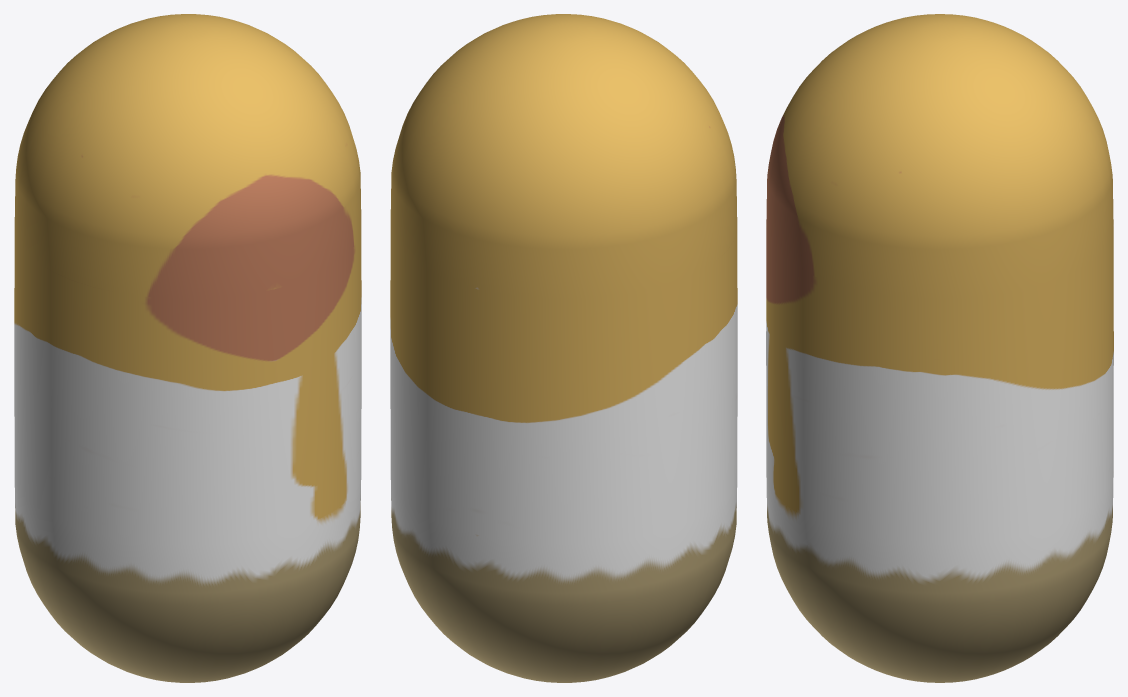
The model's file is girl3Capsule.fbx.
3 renders of one model, left to right at view 1: azimuth 30°, elevation 25°; view 2: azimuth 150°, elevation 25°; view 3: azimuth 270°, elevation 25°, orthographic.
Parts seen in each view (by area): view 1: girl3Capsule; view 2: girl3Capsule; view 3: girl3Capsule.
Boxes of the visible parts, <box> form: girl3Capsule: <box>14,14,361,682</box>; girl3Capsule: <box>390,14,737,682</box>; girl3Capsule: <box>766,14,1113,682</box>.
Size of the model in its own units: 1.98 by 4 by 1.98.
Materials: 1 (1 with a texture image).
